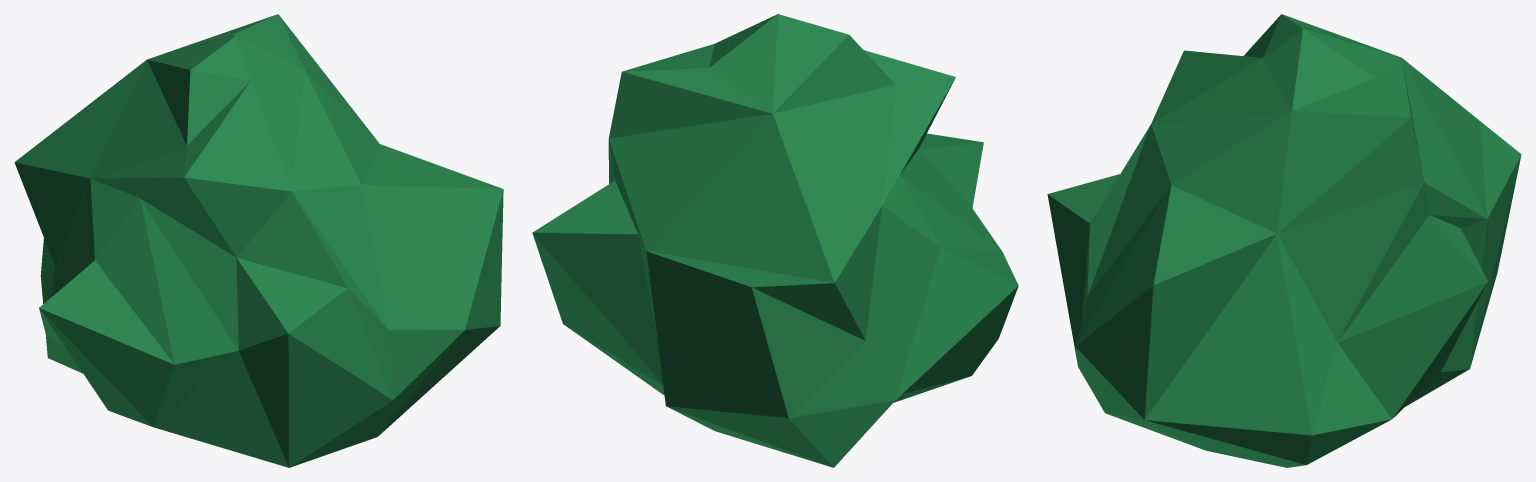
File: SM_Env_Bush_01-optimized.glb
The picture shows the model from 3 angles, left to right: view 1: azimuth 30°, elevation 25°; view 2: azimuth 150°, elevation 25°; view 3: azimuth 270°, elevation 25°; orthographic projection. The views are drawn at different scales.
Visible parts, largest first — view 1: SM_Env_Bush_01; view 2: SM_Env_Bush_01; view 3: SM_Env_Bush_01.
Part boxes in pixels (x1,y1,x2,y2): SM_Env_Bush_01: (14, 14, 503, 467); SM_Env_Bush_01: (532, 14, 1018, 467); SM_Env_Bush_01: (1047, 14, 1521, 467).
Bounding box in the file's own units: 2.08 × 1.87 × 2.
